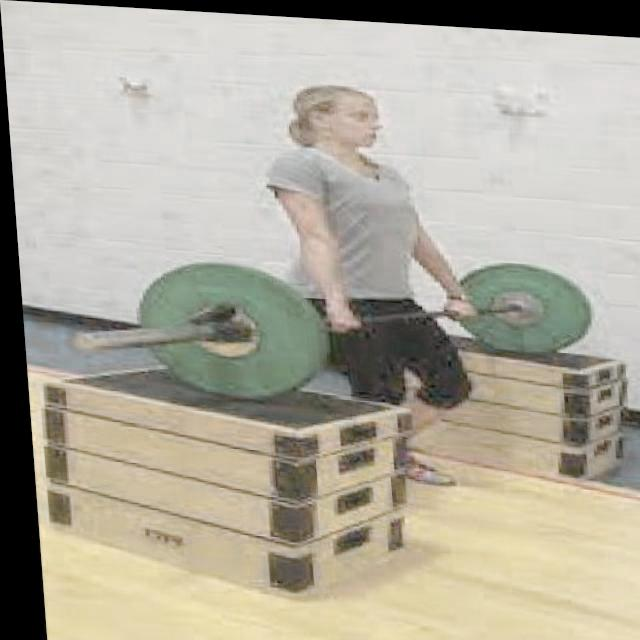barbell: (56, 252, 327, 404)
